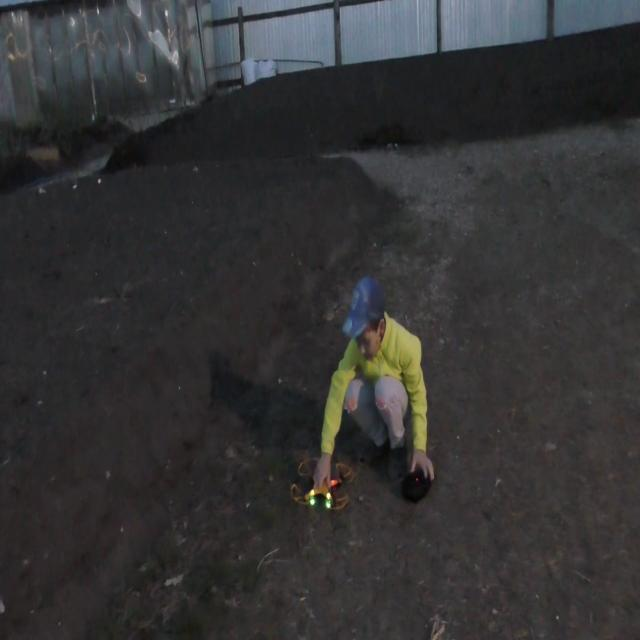Drons: (286, 454, 354, 516)
